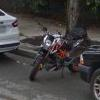Motorcycle: (26, 23, 75, 82)
